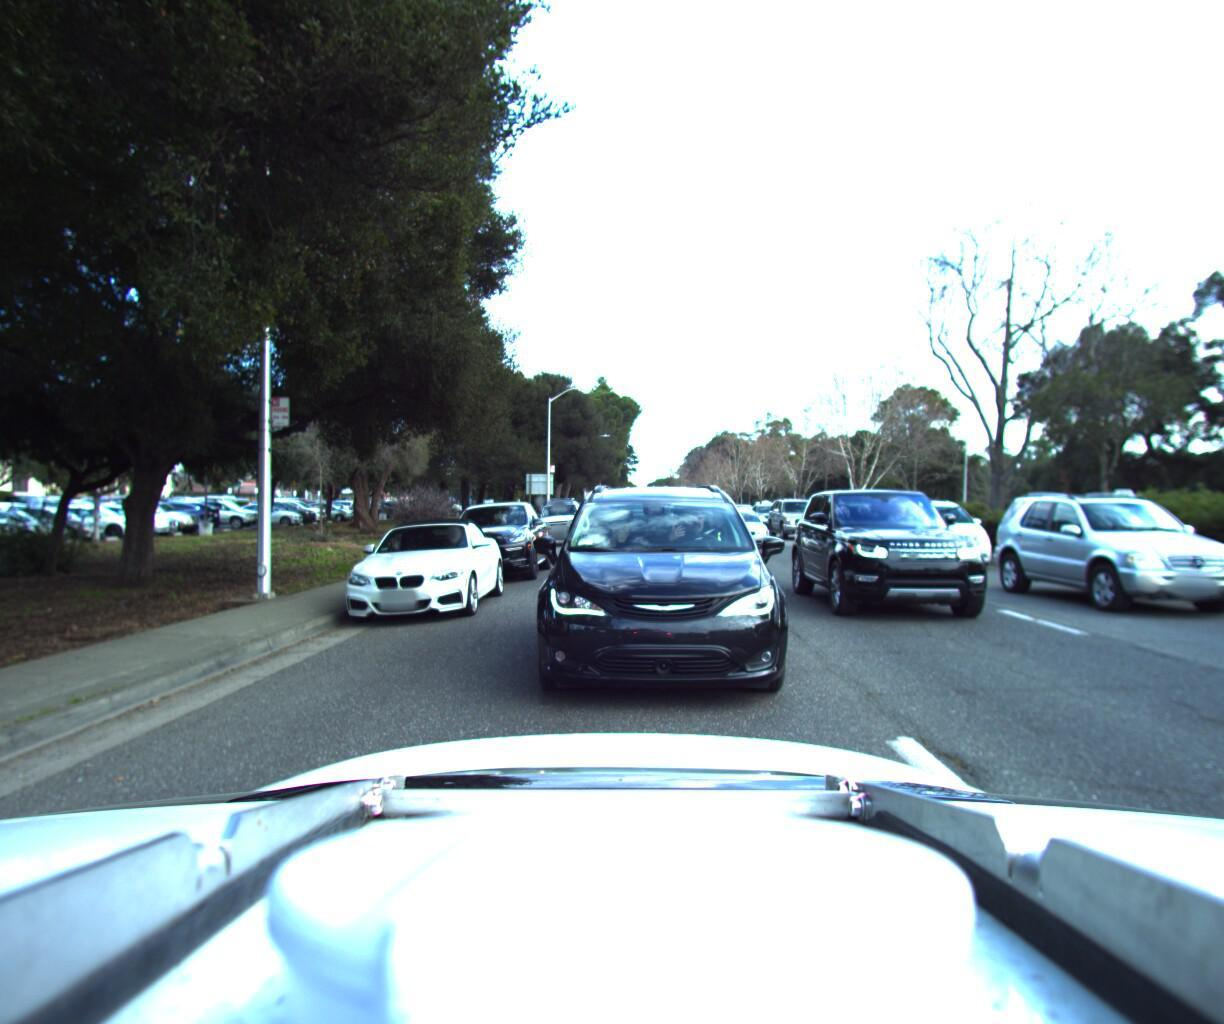car: (522, 465, 799, 719), (788, 479, 1015, 637), (982, 488, 1224, 615), (324, 511, 506, 624), (433, 494, 549, 584), (859, 493, 995, 566), (529, 492, 587, 544), (766, 492, 827, 538), (717, 503, 781, 546)
other_vehicle: (1055, 481, 1185, 555)
